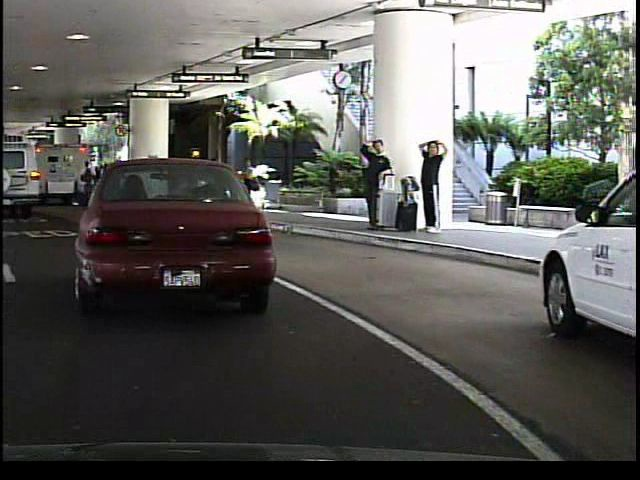person: (413, 134, 446, 235), (356, 134, 389, 233), (233, 154, 261, 220), (367, 152, 388, 225)
